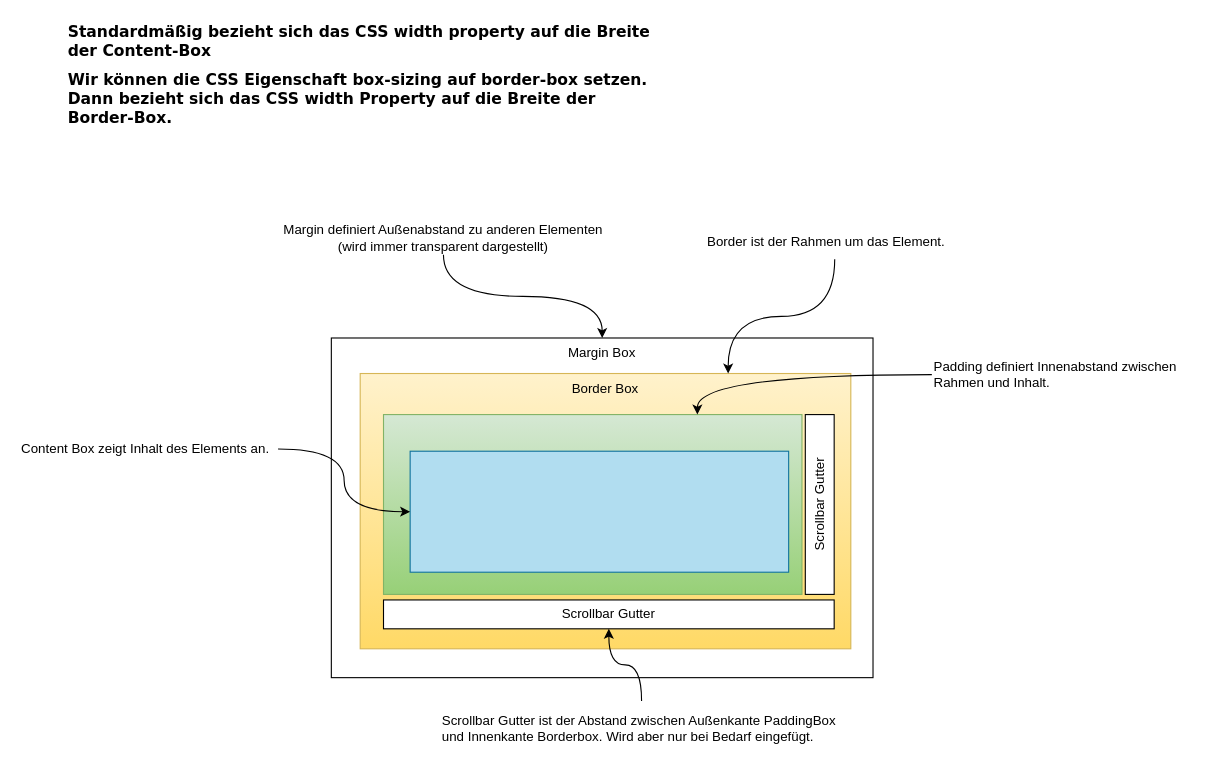
This 1209x774 diagram has some shape labels left out. Each missing label, with the box of its shape:
Content Box: (409, 450, 789, 572)
Padding Box: (382, 413, 802, 594)
